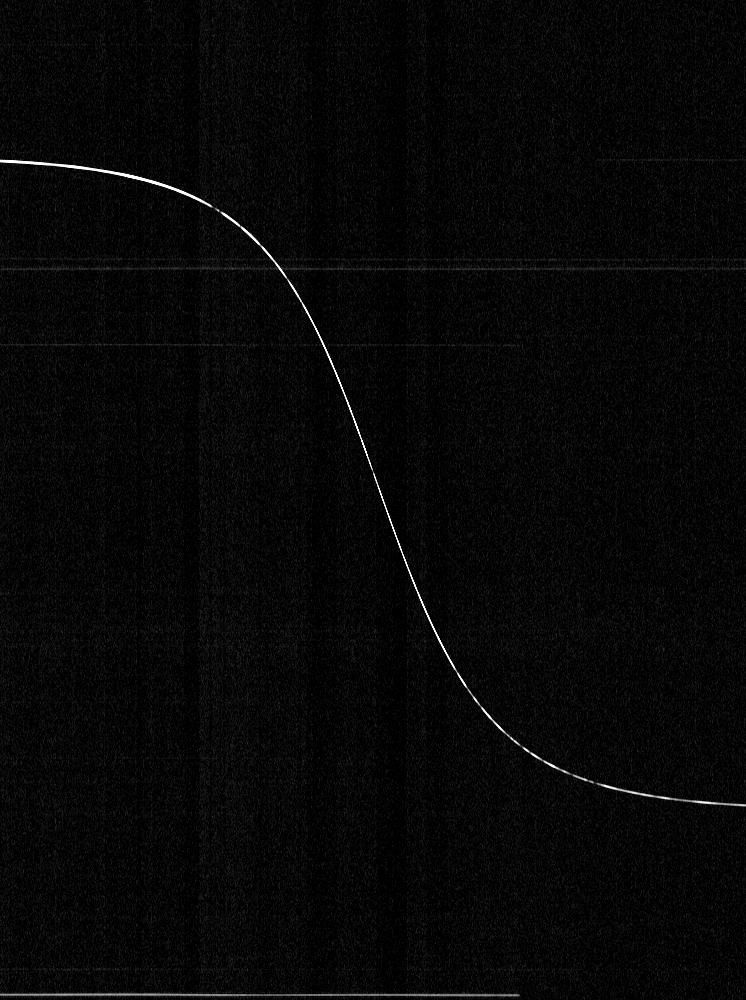signal: (0, 0, 745, 999)
